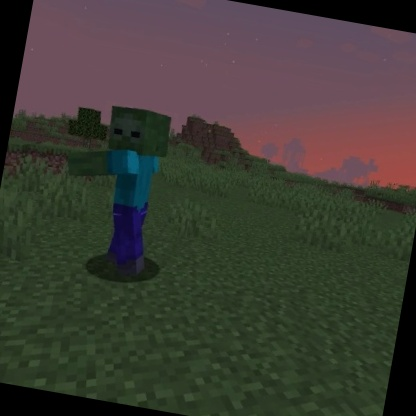zombie: (45, 95, 179, 283)
